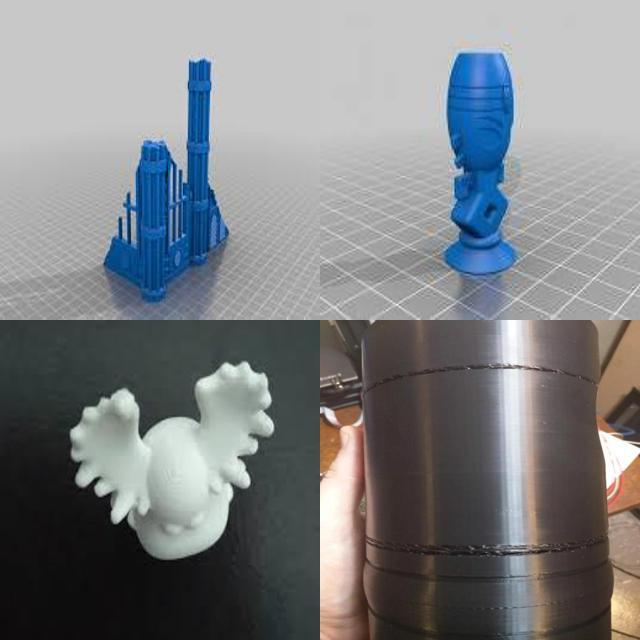Warping: (365, 354, 595, 408), (366, 525, 612, 567)
